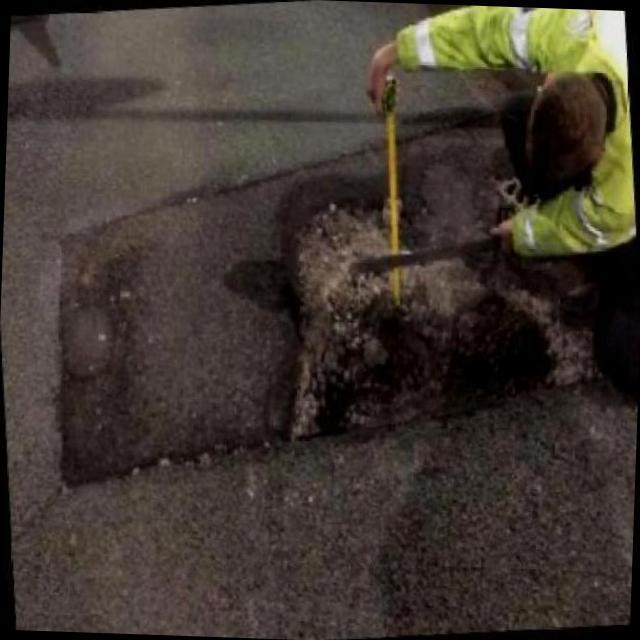Pothole: (308, 297, 551, 435)
